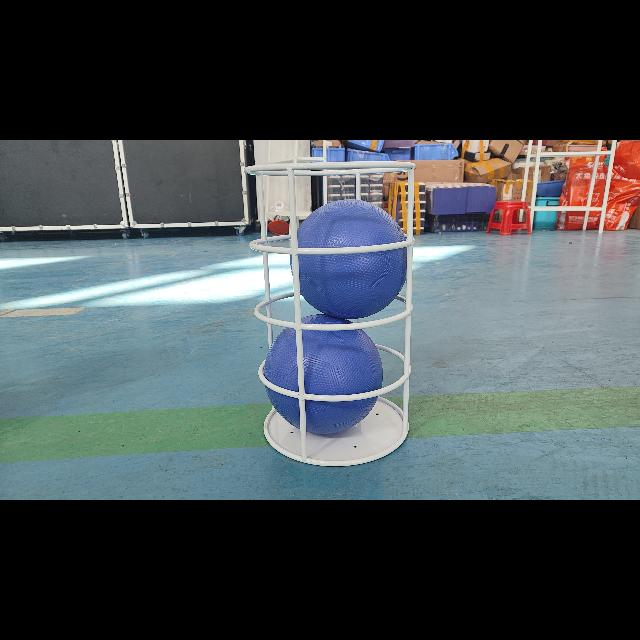B: (263, 314, 383, 436), (290, 199, 408, 319)
S: (232, 158, 426, 470)
